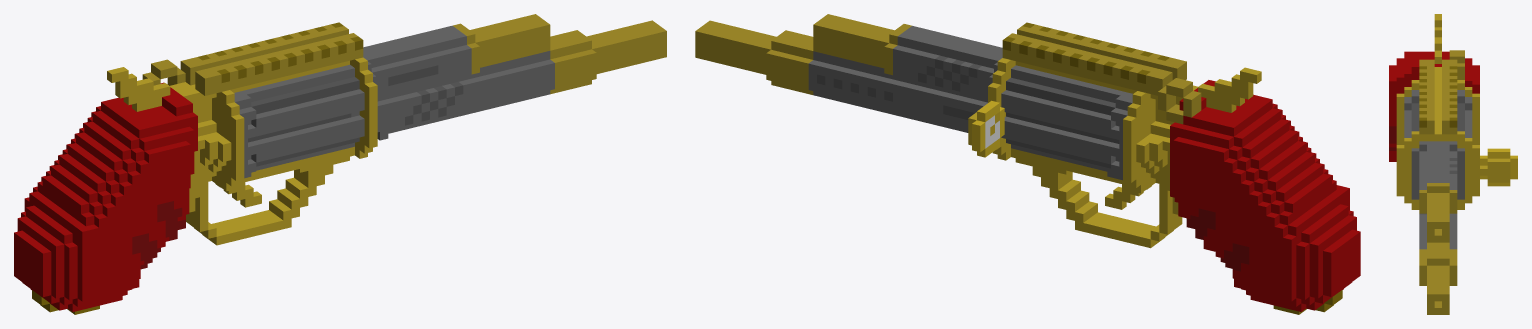
File: Gun.obj
3 views of the same model, side by side, from view 1: azimuth 30°, elevation 25°; view 2: azimuth 150°, elevation 25°; view 3: azimuth 270°, elevation 25° (orthographic). The views are drawn at different scales.
Parts seen in each view (by area): view 1: Matrix; view 2: Matrix; view 3: Matrix.
Boxes of the visible parts, x1,y1,x2,y2 form: Matrix: (14, 14, 666, 314); Matrix: (695, 14, 1360, 314); Matrix: (1389, 14, 1517, 314).
Size of the model in its own units: 76 by 26 by 17.
1 material, 1 textured.
